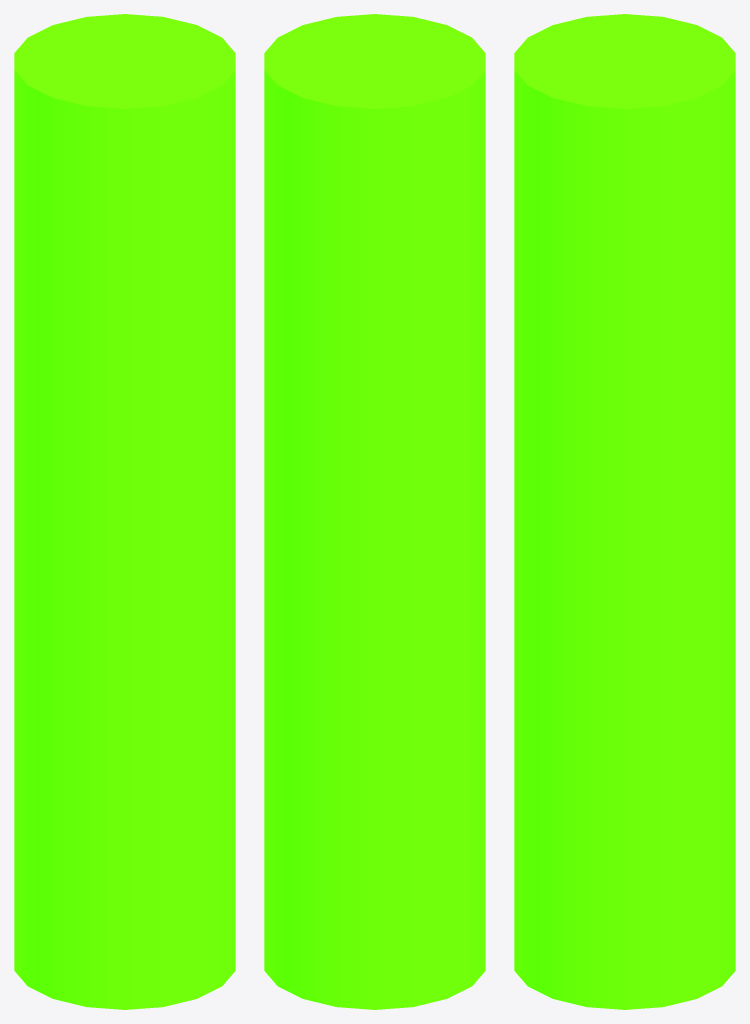
Rendered from bgs_glowtest.gltf.
3 views of the same model, side by side, from view 1: azimuth 30°, elevation 25°; view 2: azimuth 150°, elevation 25°; view 3: azimuth 270°, elevation 25° (orthographic).
Visible parts, largest first — view 1: Cylinder001; view 2: Cylinder001; view 3: Cylinder001.
Part boxes in pixels (x1,y1,x2,y2): Cylinder001: [14, 14, 235, 1009]; Cylinder001: [264, 14, 485, 1009]; Cylinder001: [514, 14, 735, 1009].
Size of the model in its own units: 16.4 by 72.5 by 16.15.
